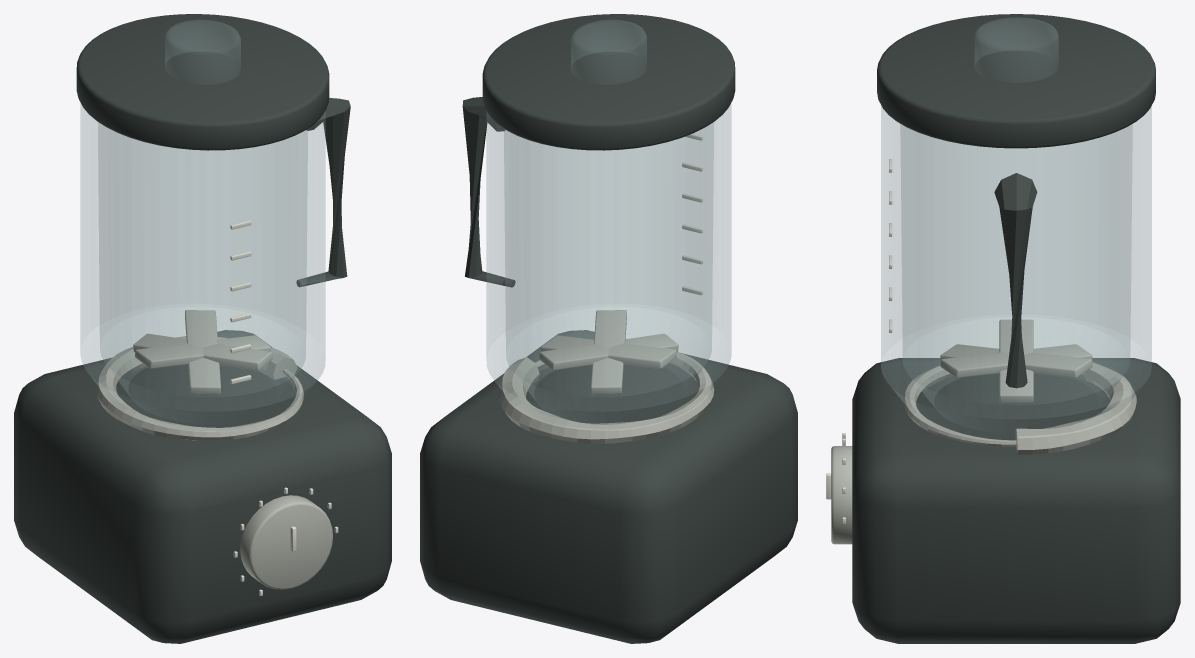
Rendered from countertop-blender.glb.
The picture shows the model from 3 angles, left to right: view 1: azimuth 30°, elevation 25°; view 2: azimuth 150°, elevation 25°; view 3: azimuth 270°, elevation 25°; orthographic projection. The views are drawn at different scales.
Parts seen in each view (by area): view 1: countertop-blender; view 2: countertop-blender; view 3: countertop-blender.
Part boxes in pixels (x1,y1,x2,y2): countertop-blender: (14, 14, 391, 643); countertop-blender: (420, 14, 797, 643); countertop-blender: (826, 14, 1180, 643).
Bounding box in the file's own units: 0.22 × 0.42 × 0.24.
